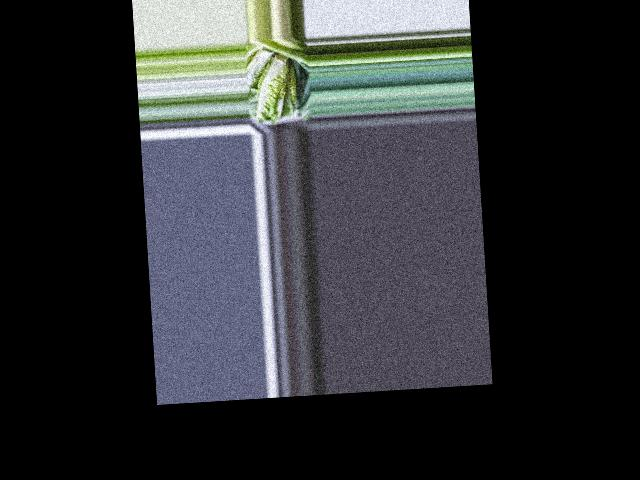lettuce: (252, 52, 299, 124)
